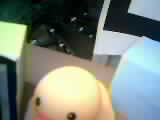duck: (30, 55, 116, 117)
